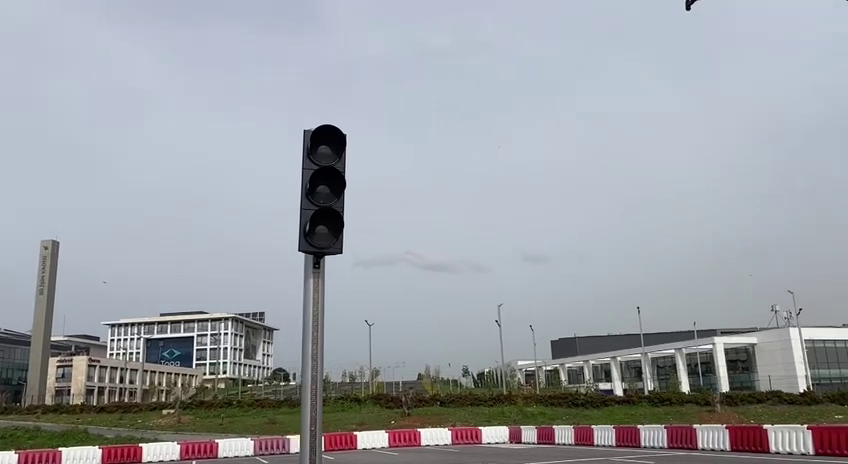trafficLight: (293, 120, 351, 262)
